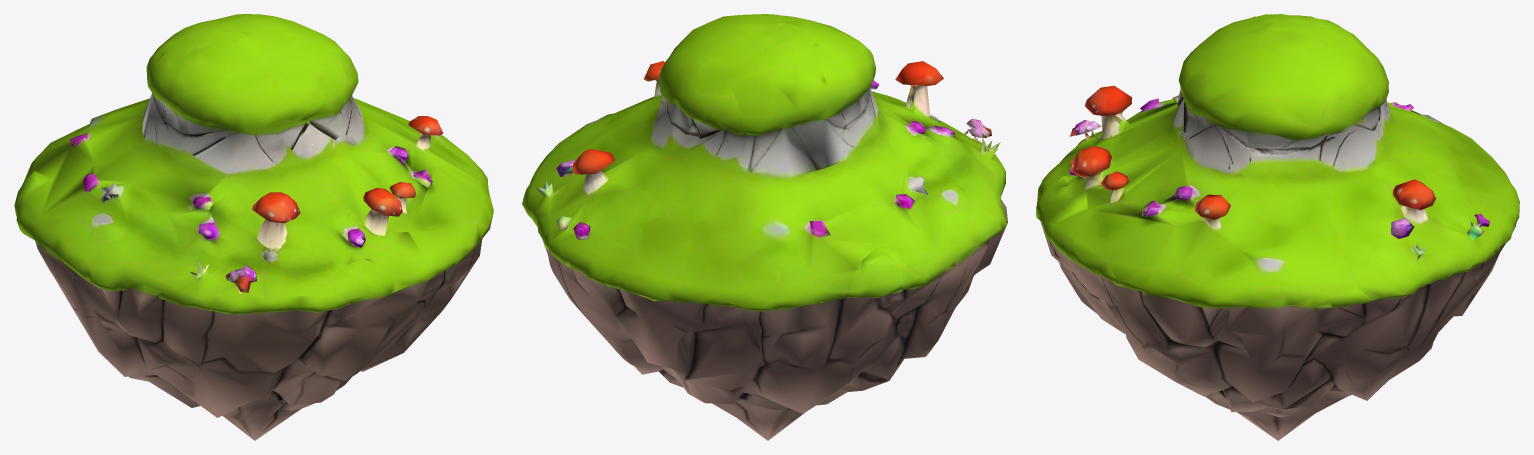
Rendered from small-floating-island.glb.
The picture shows the model from 3 angles, left to right: view 1: azimuth 30°, elevation 25°; view 2: azimuth 150°, elevation 25°; view 3: azimuth 270°, elevation 25°; orthographic projection. The views are drawn at different scales.
Size of the model in its own units: 1.82 by 1.76 by 1.89.
1 material, 1 textured.
